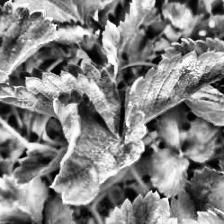Powdery Mildew Leaf: (50, 88, 148, 206), (122, 37, 224, 129), (0, 62, 121, 134)
